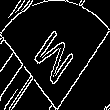M_SW: (31, 21, 79, 89)
